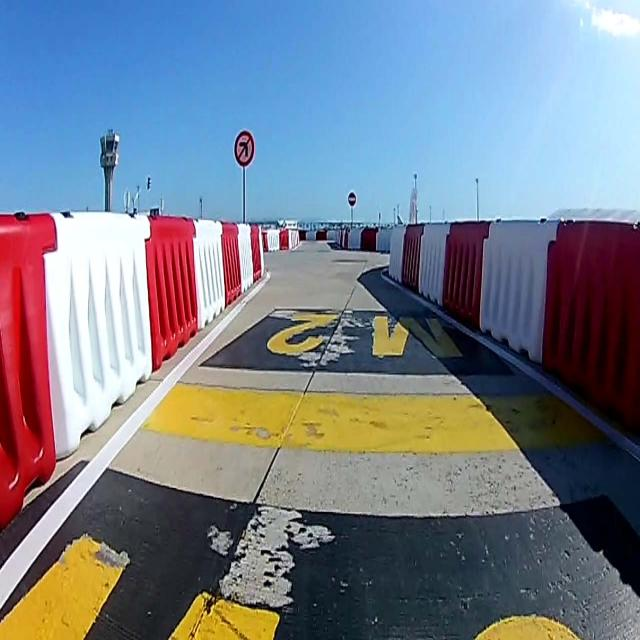girisyok: (348, 192, 356, 206)
soladonulmez: (234, 131, 254, 166)
